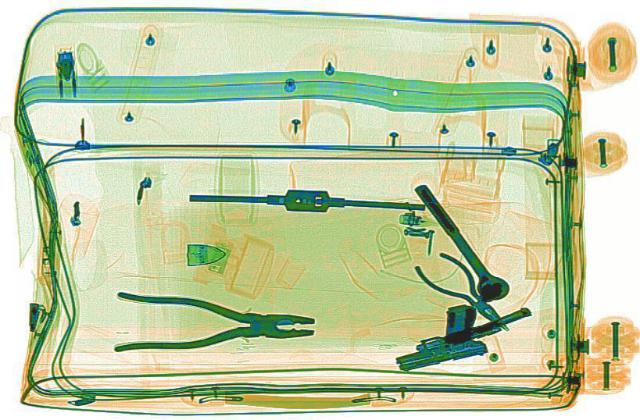Gun: (369, 299, 499, 370), (410, 303, 536, 354)
Pliers: (106, 288, 318, 359), (404, 247, 528, 336)
